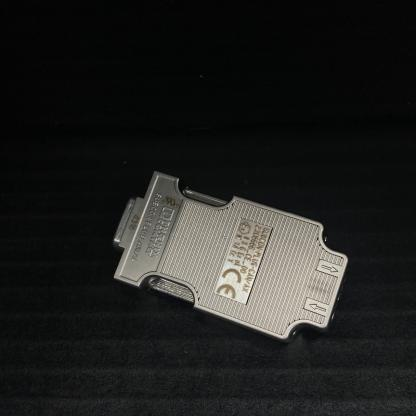SP0000010: (59, 141, 383, 371)
